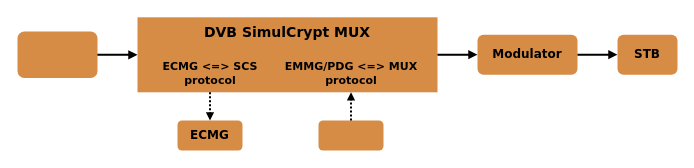
Some shapes in this 694 by 168 pixel diagram are drawn without their labels. Here are the shapes that lost their labels. From the top down, the centre of each, then its label:
At [57,54]: "Video encoder".
At [350,135]: "EMMG".
